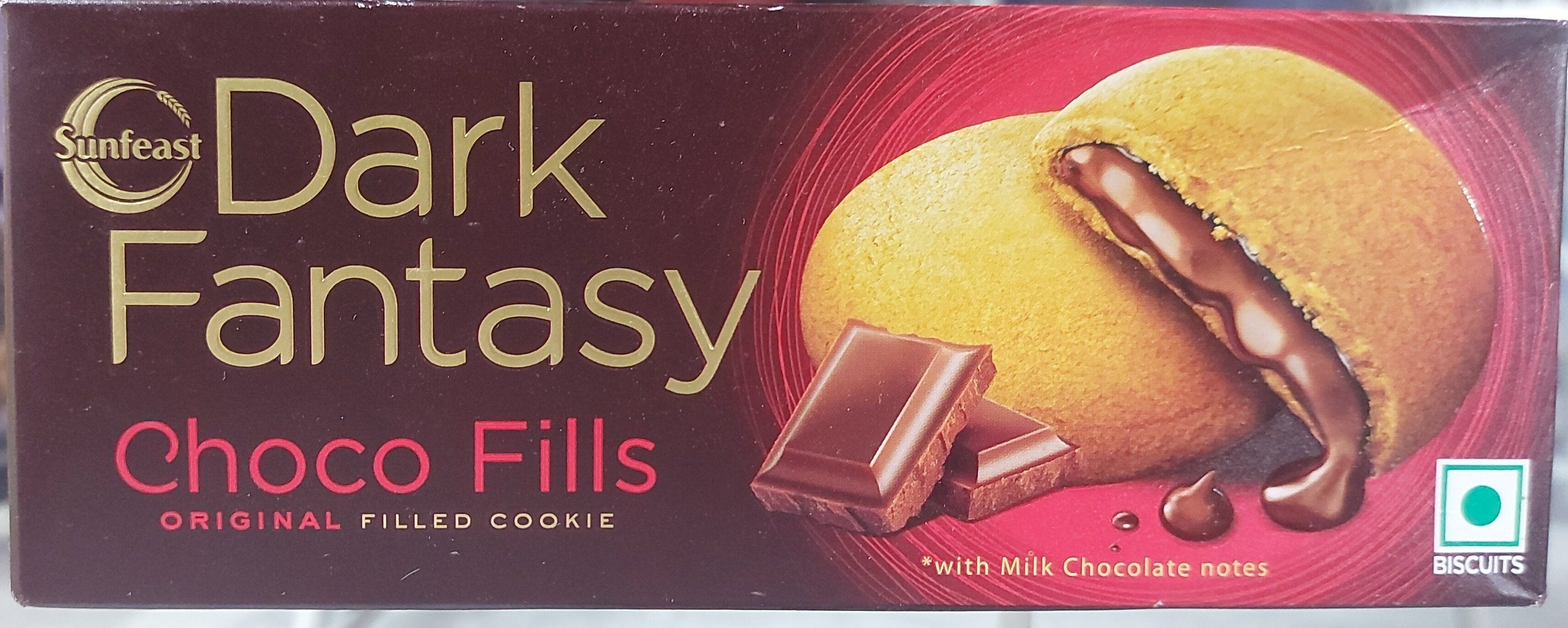Dark Fantasy: (141, 57, 1427, 571)
